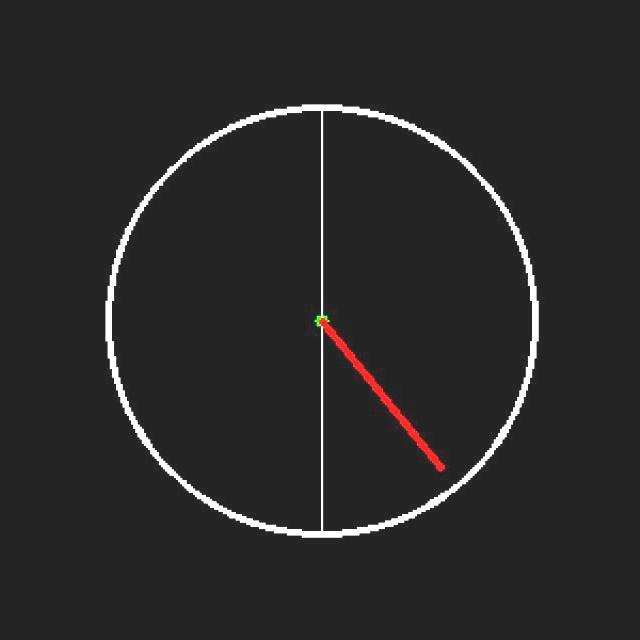Needle_Tip: (407, 430, 463, 494)
Needle_base: (291, 303, 353, 343)
